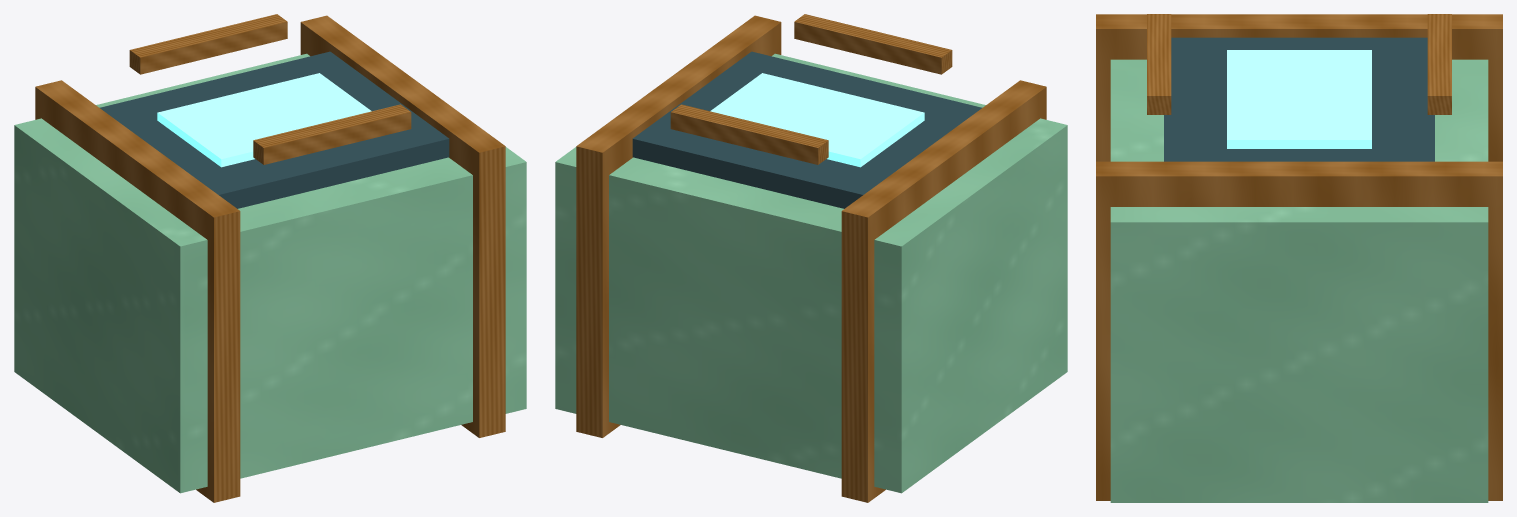
Rendered from luggage.glb.
The picture shows the model from 3 angles, left to right: view 1: azimuth 30°, elevation 25°; view 2: azimuth 150°, elevation 25°; view 3: azimuth 270°, elevation 25°; orthographic projection. The views are drawn at different scales.
Visible parts, largest first — view 1: RF_parcel-shell, RF_parcel-strap, RF_parcel-top, RF_parcel-strap.001, RF_parcel-window, RF_parcel-handle, RF_parcel-handle.001; view 2: RF_parcel-shell, RF_parcel-strap, RF_parcel-top, RF_parcel-strap.001, RF_parcel-window, RF_parcel-handle.001, RF_parcel-handle; view 3: RF_parcel-shell, RF_parcel-strap.001, RF_parcel-top, RF_parcel-window, RF_parcel-strap, RF_parcel-handle, RF_parcel-handle.001.
Boxes of the visible parts, <box> form: RF_parcel-shell: <box>14,53,526,493</box>; RF_parcel-strap: <box>35,80,240,502</box>; RF_parcel-top: <box>99,51,449,208</box>; RF_parcel-strap.001: <box>300,15,505,437</box>; RF_parcel-window: <box>157,73,371,167</box>; RF_parcel-handle: <box>253,104,411,164</box>; RF_parcel-handle.001: <box>129,14,287,74</box>; RF_parcel-shell: <box>555,53,1067,493</box>; RF_parcel-strap: <box>841,80,1046,502</box>; RF_parcel-top: <box>632,51,982,208</box>; RF_parcel-strap.001: <box>576,15,781,437</box>; RF_parcel-window: <box>710,73,924,167</box>; RF_parcel-handle.001: <box>670,104,828,164</box>; RF_parcel-handle: <box>794,14,952,74</box>; RF_parcel-shell: <box>1110,59,1488,502</box>; RF_parcel-strap.001: <box>1096,161,1502,500</box>; RF_parcel-top: <box>1164,37,1434,161</box>; RF_parcel-window: <box>1227,50,1371,148</box>; RF_parcel-strap: <box>1096,14,1502,161</box>; RF_parcel-handle: <box>1147,14,1171,114</box>; RF_parcel-handle.001: <box>1427,14,1451,114</box>.
Bounding box in the file's own units: 0.47 × 0.416 × 0.42.
4 materials, 2 textured.
